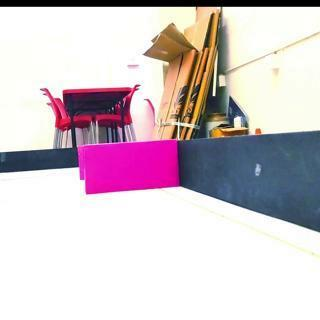xparking: (77, 138, 179, 195)
